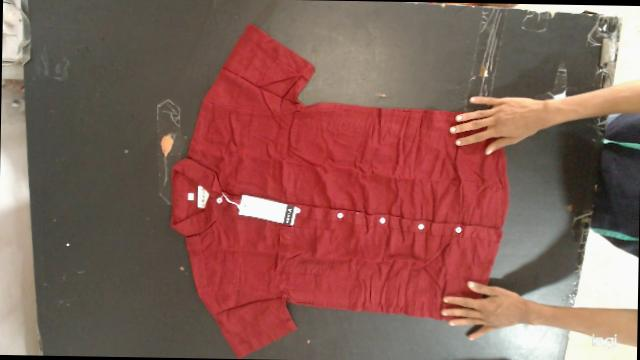new-garment: (171, 24, 508, 356)
